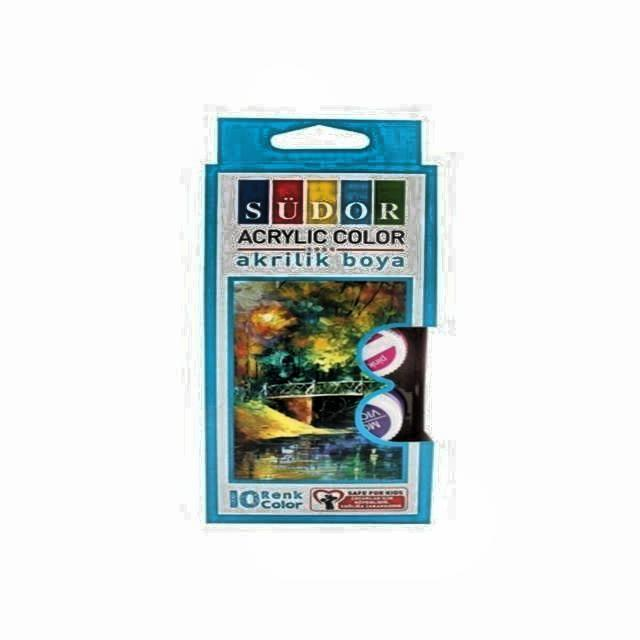cardboard: (199, 116, 440, 528)
